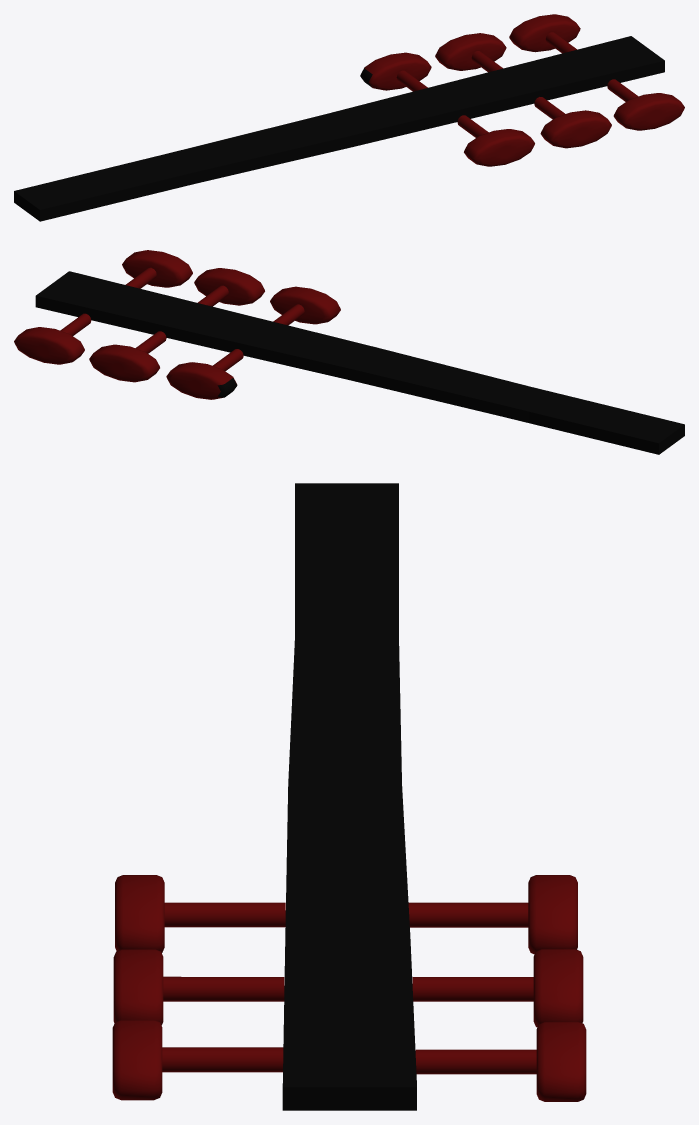
The model's file is Hals gitaar.FBX.
3 views of the same model, one above another, from view 1: azimuth 30°, elevation 25°; view 2: azimuth 150°, elevation 25°; view 3: azimuth 270°, elevation 25° (orthographic). The views are drawn at different scales.
Parts seen in each view (by area): view 1: Box001; view 2: Box001; view 3: Box001.
Boxes of the visible parts, x1,y1,x2,y2 form: Box001: (14, 14, 684, 221); Box001: (14, 250, 684, 454); Box001: (112, 483, 586, 1110).
Size of the model in its own units: 1201 by 50.84 by 398.
